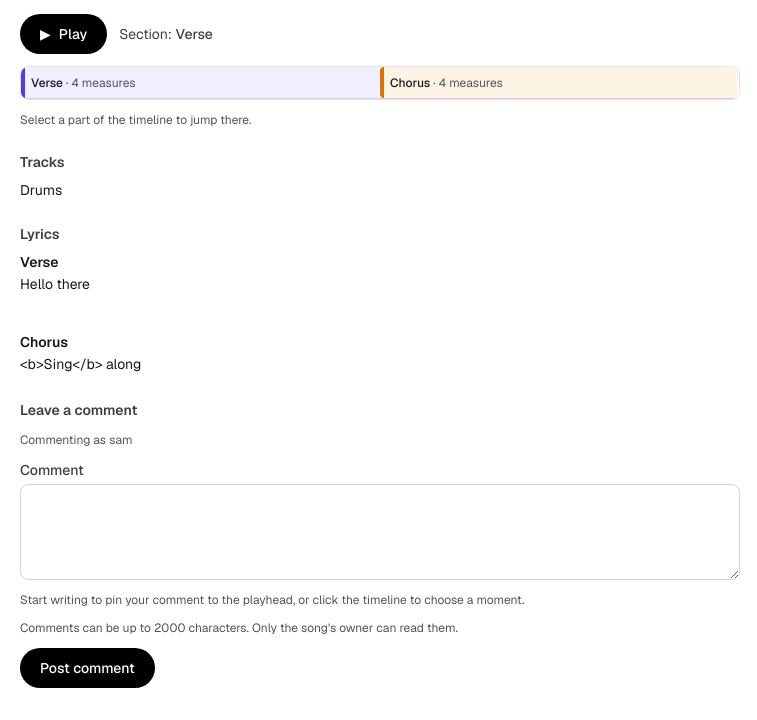
Test: Comments › refuses an empty comment before sending anything
(page scrolled)
Expected: the text "Commenting as sam" is shown, top-left (20, 432), bottom-right (132, 448)
Click the button "Post comment".
click(87, 668)  # box top-left (20, 648), bottom-right (155, 688)
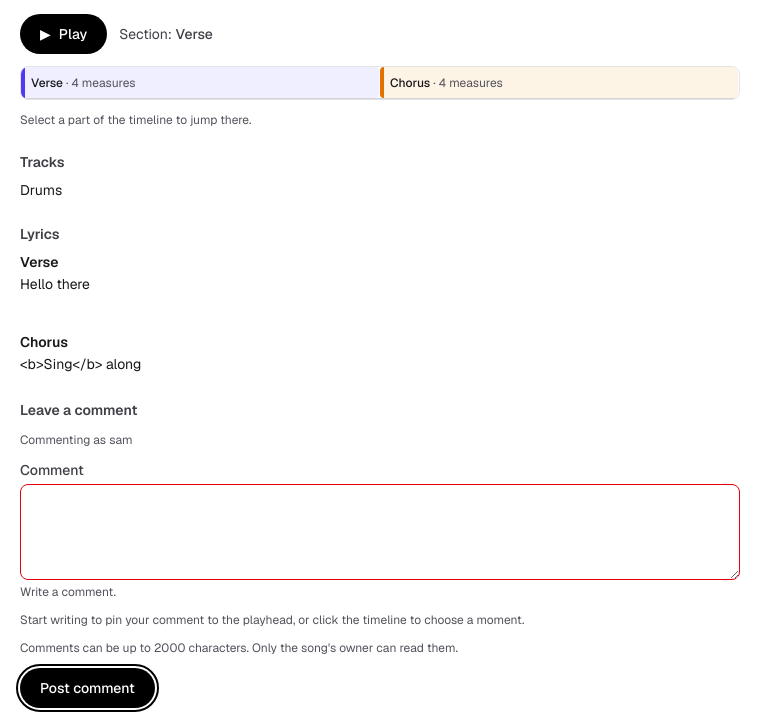
Now the text "Write a comment." is shown, box top-left (20, 584), bottom-right (116, 600)
